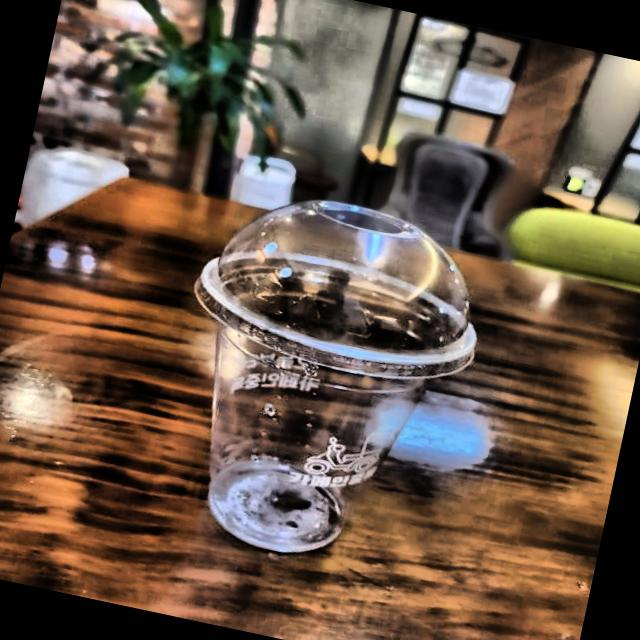plastic cup: (120, 159, 542, 629)
